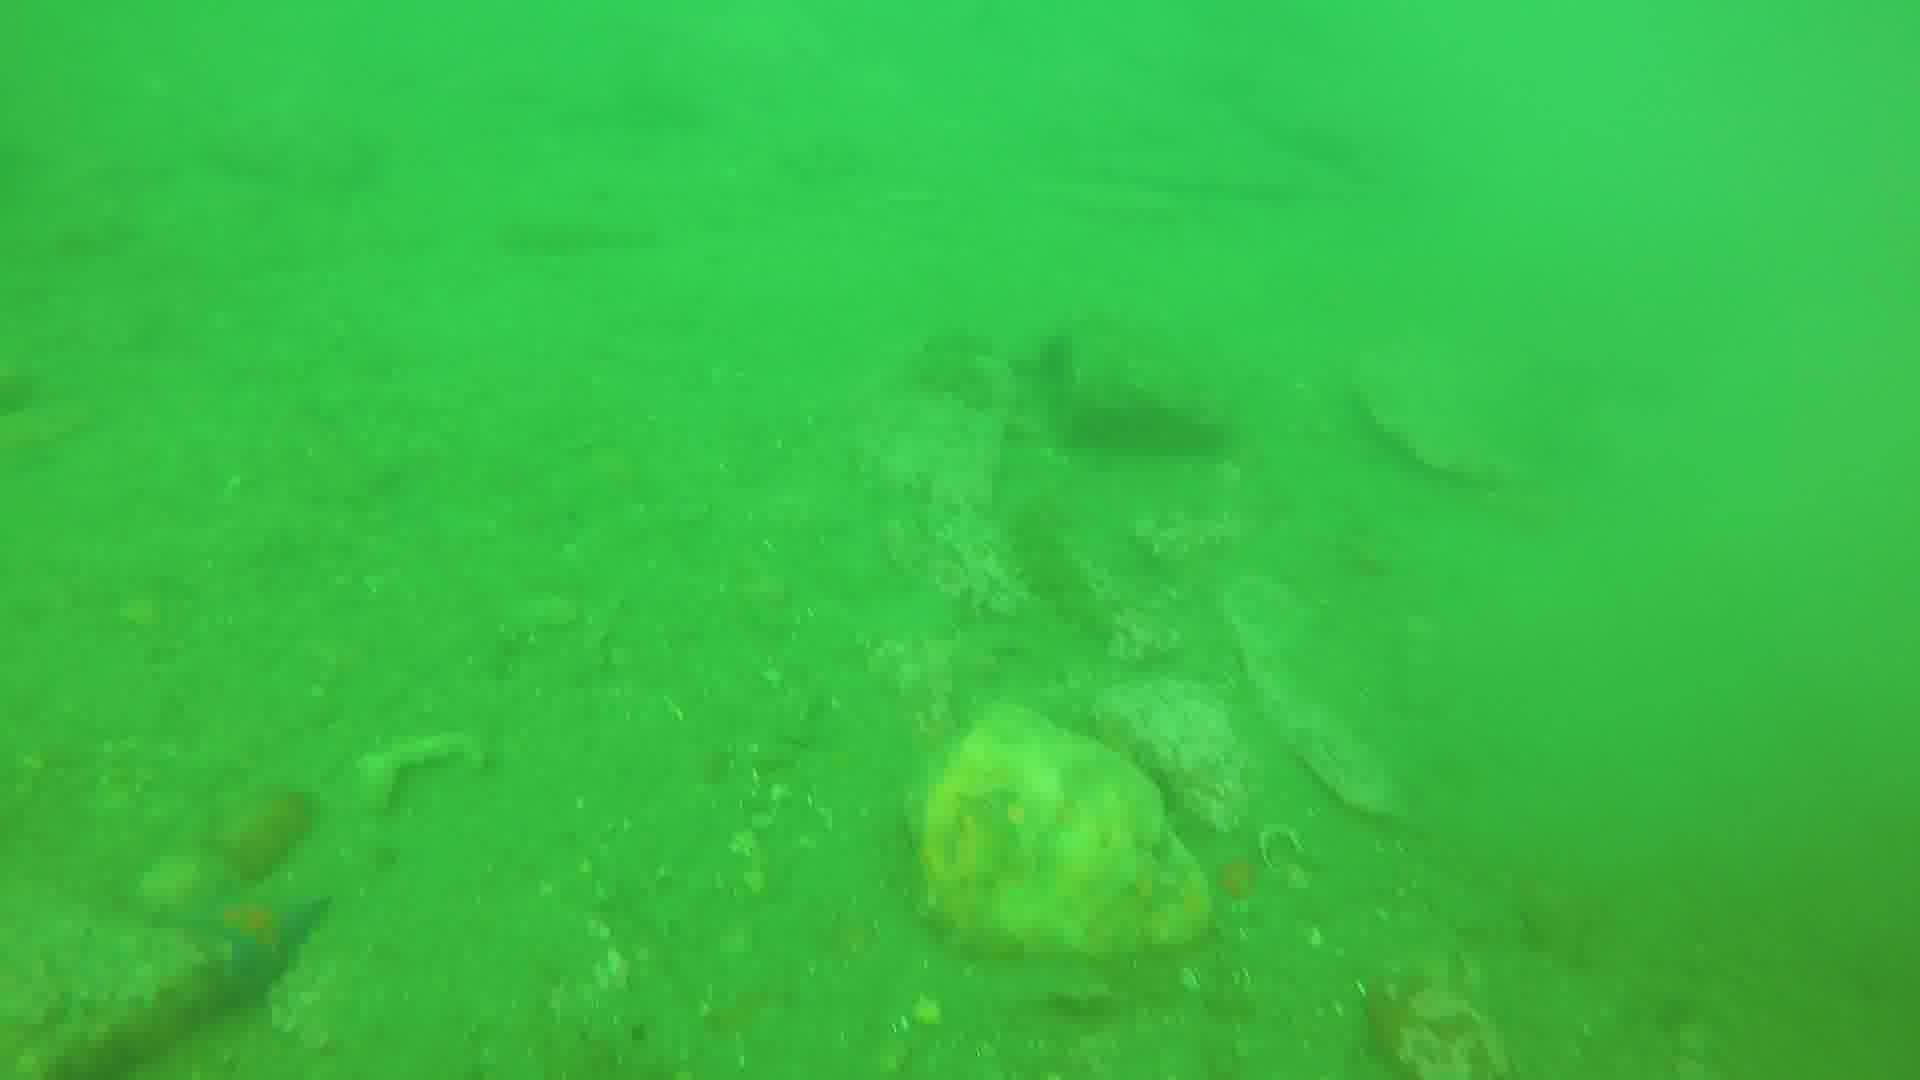starfish: (167, 889, 338, 993)
